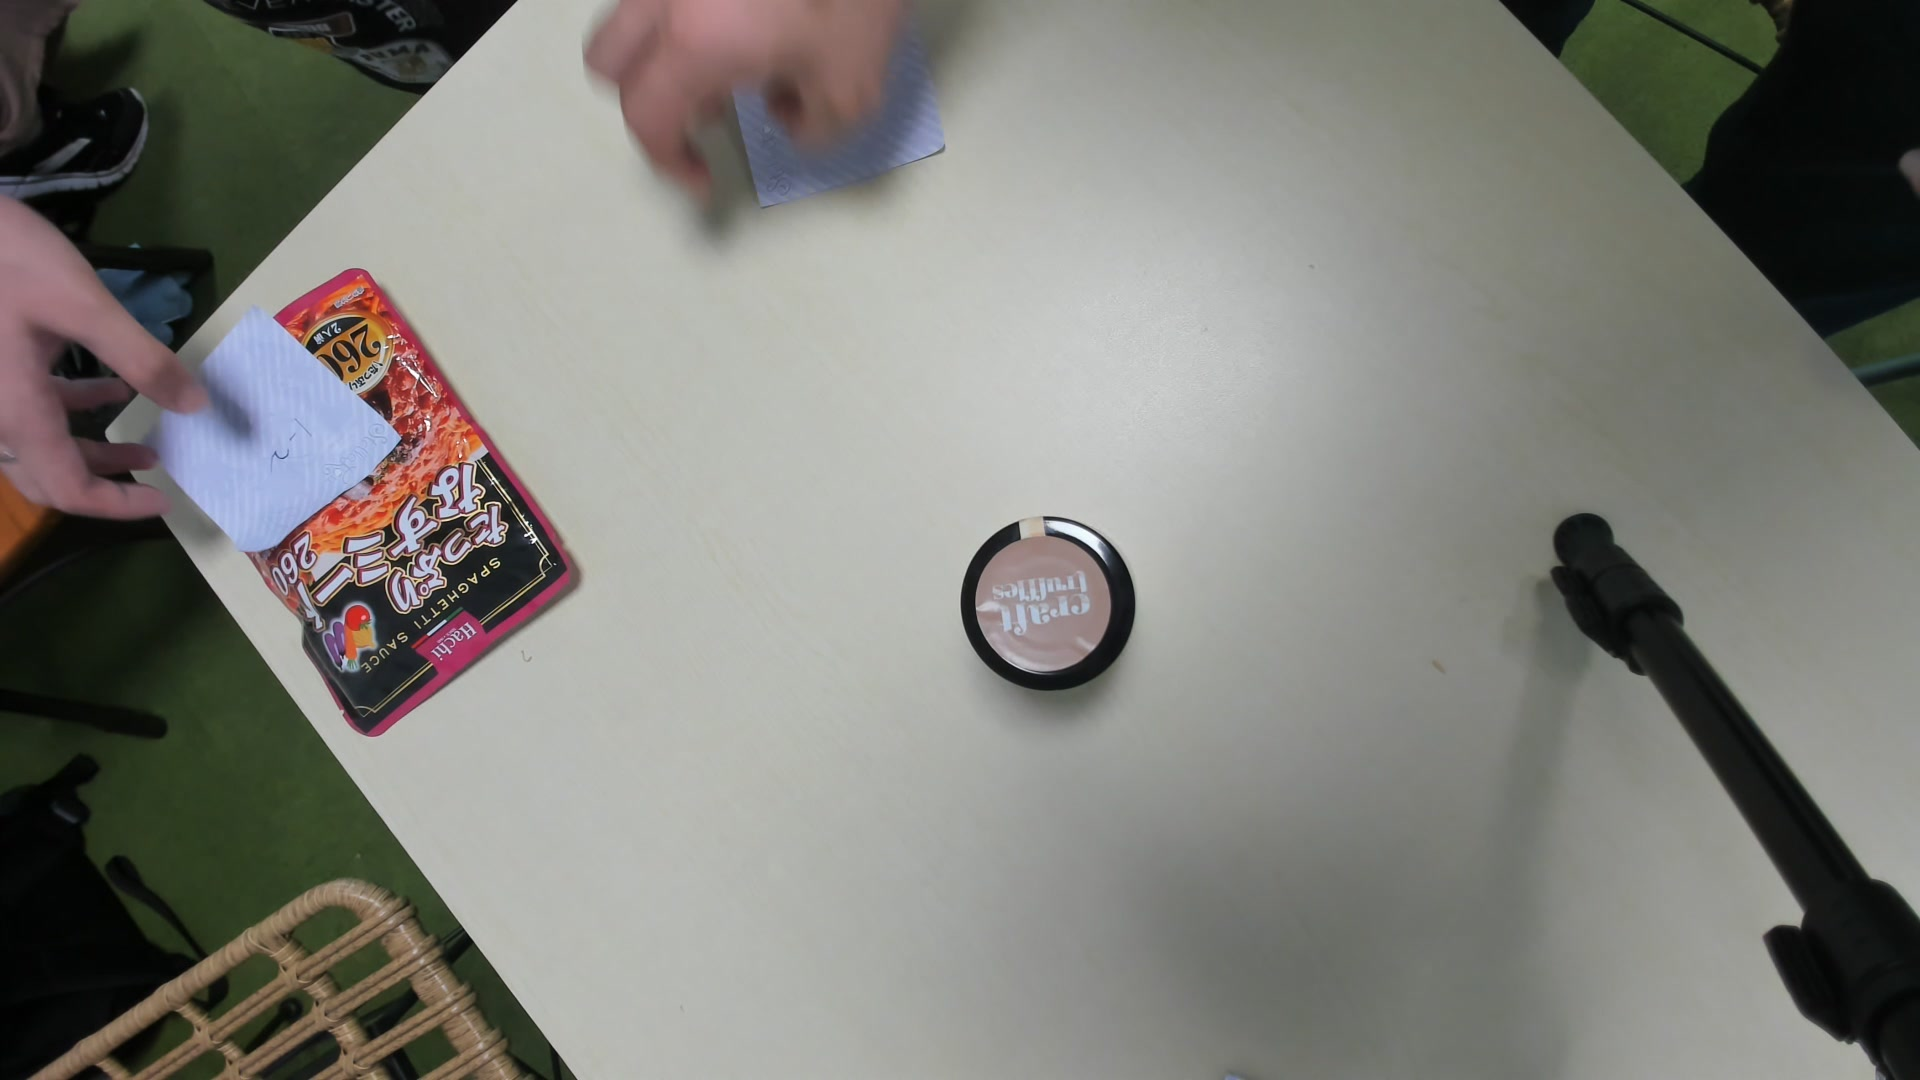PastaSauce_100-199g_Halal_NonHealthy: (955, 518, 1137, 699)
